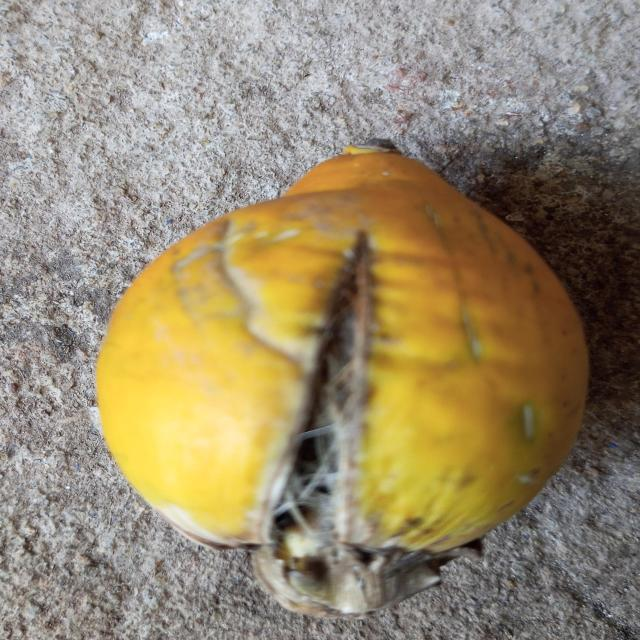damaged: (97, 139, 588, 616)
